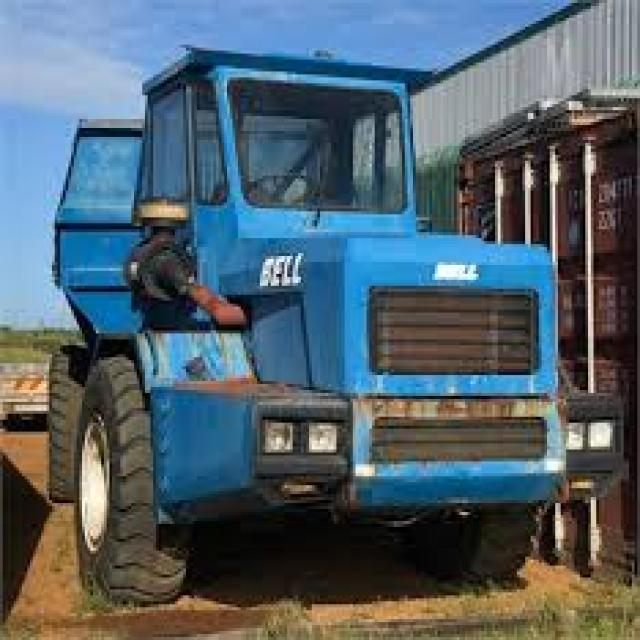dump_truck: (71, 27, 613, 580)
